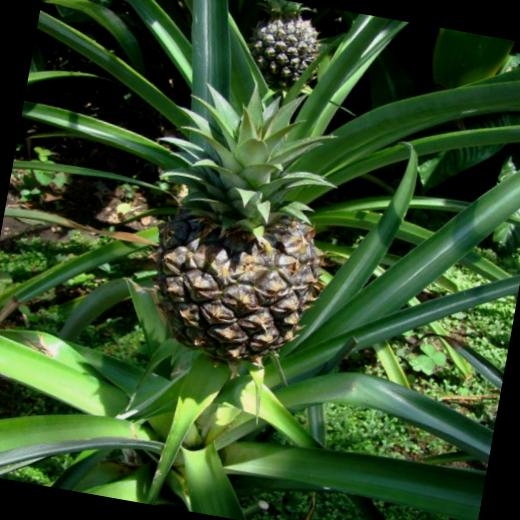Mango: (116, 63, 356, 384), (242, 0, 333, 92), (244, 0, 329, 92)
